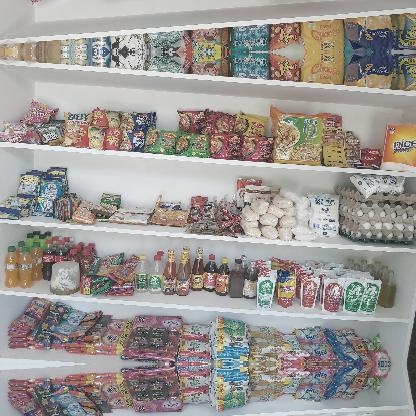Lady-s-Choice: (50, 258, 80, 296)
